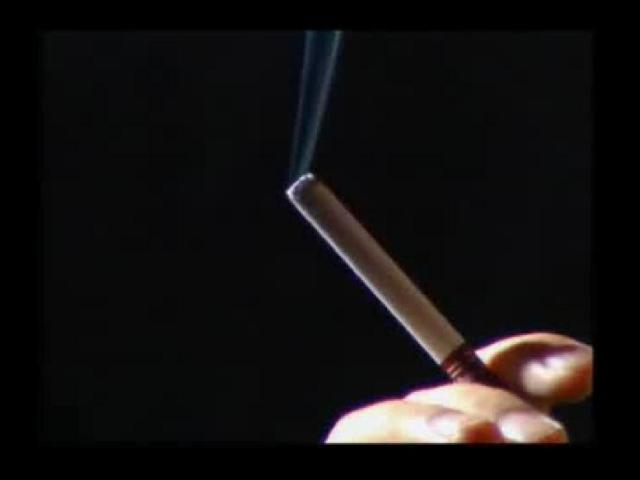Cigarette: (274, 168, 490, 380)
